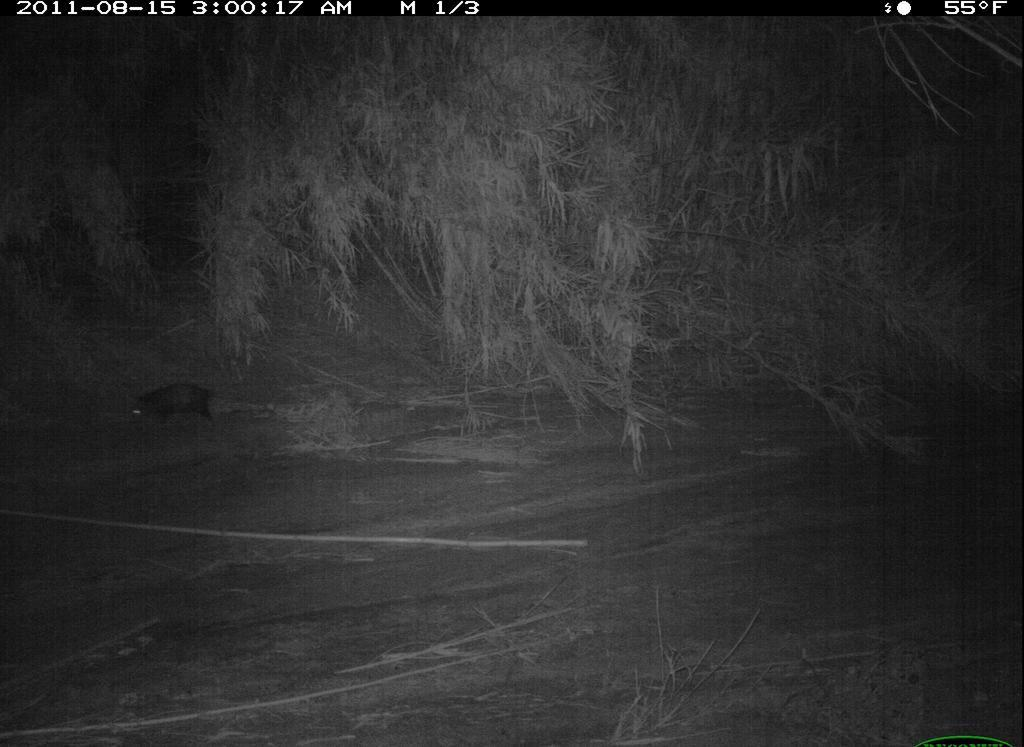opossum: (114, 377, 265, 438)
